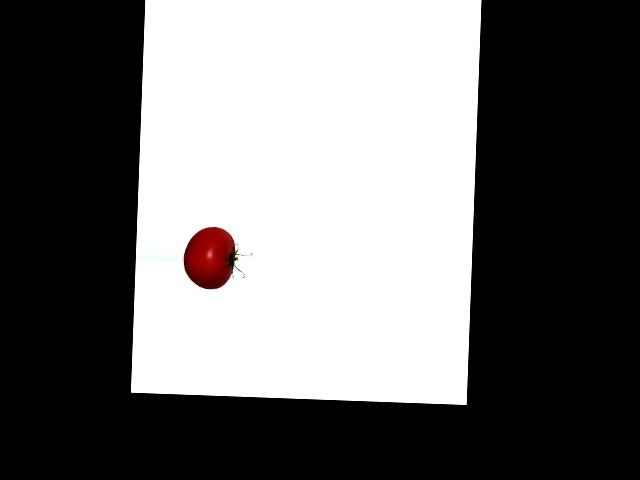tomato: (182, 225, 236, 289)
